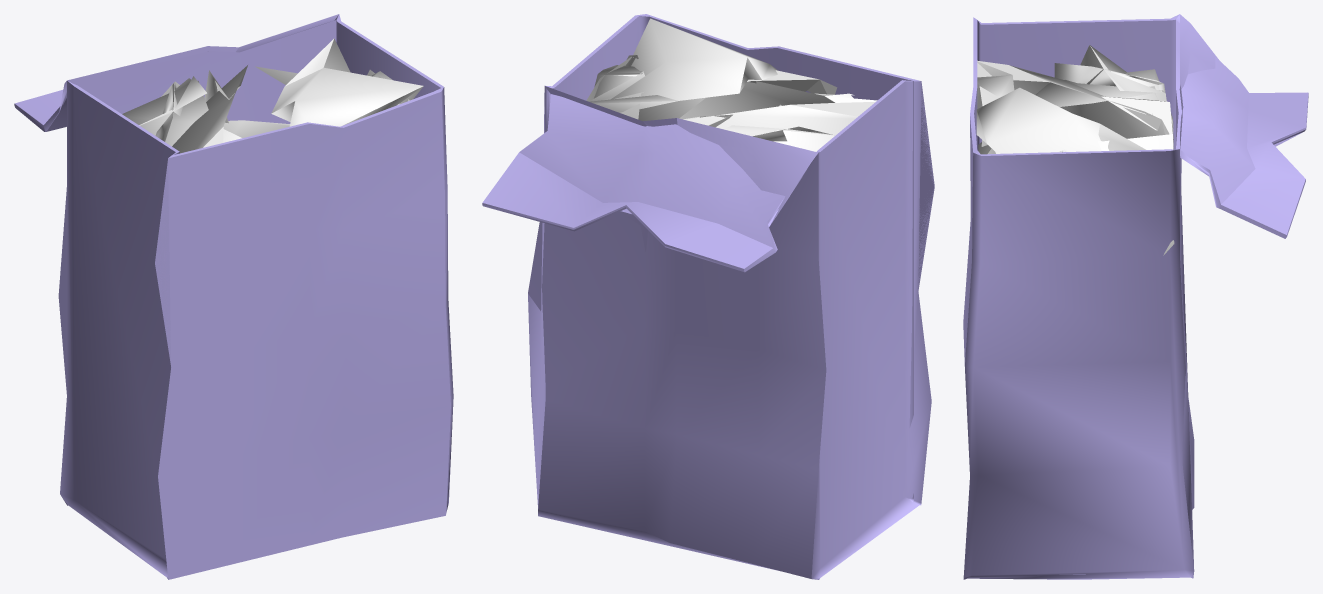
File: UnsellableMerchandise.fbx
The picture shows the model from 3 angles, left to right: view 1: azimuth 30°, elevation 25°; view 2: azimuth 150°, elevation 25°; view 3: azimuth 270°, elevation 25°; orthographic projection.
Parts seen in each view (by area): view 1: UnsellableMerchandise; view 2: UnsellableMerchandise; view 3: UnsellableMerchandise.
Part boxes in pixels (x1,y1,x2,y2): UnsellableMerchandise: (14,14,453,579); UnsellableMerchandise: (482,14,934,579); UnsellableMerchandise: (963,14,1308,579).
Size of the model in its own units: 286 by 386 by 279.
